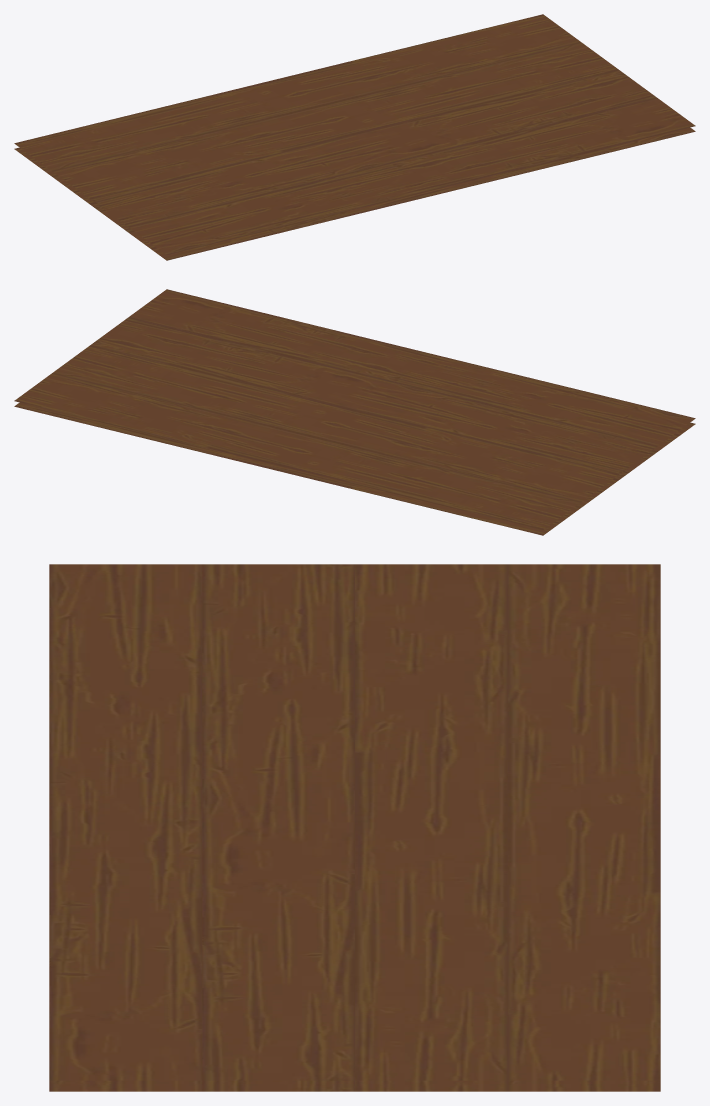
Rendered from Floor_WoodDark_Half3.glb.
3 renders of one model, top to bottom at view 1: azimuth 30°, elevation 25°; view 2: azimuth 150°, elevation 25°; view 3: azimuth 270°, elevation 25°, orthographic. The views are drawn at different scales.
Visible parts, largest first — view 1: Floor_WoodDark_Half3; view 2: Floor_WoodDark_Half3; view 3: Floor_WoodDark_Half3.
Part boxes in pixels (box(x1,y1,x2,y2)): Floor_WoodDark_Half3: box(14, 14, 695, 260); Floor_WoodDark_Half3: box(14, 289, 695, 535); Floor_WoodDark_Half3: box(49, 564, 660, 1091).
Bounding box in the file's own units: 2 × 0.02 × 1.
1 material, 1 textured.
